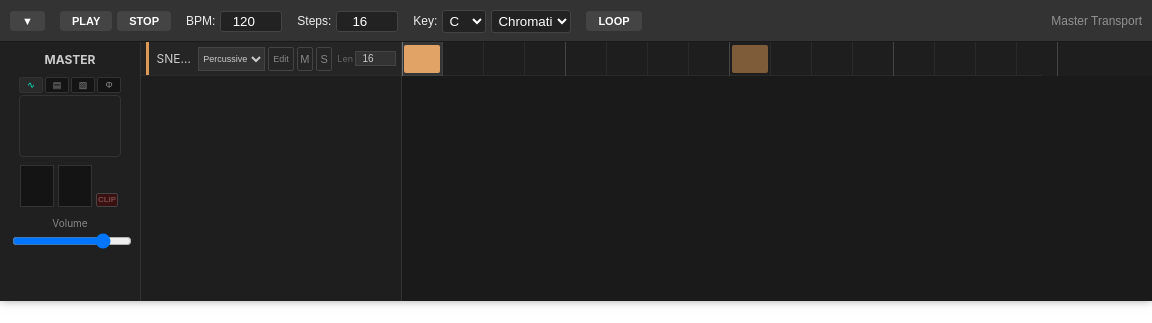
Test: SequencerDock — which editor Edit opens › opens the Drum Roll for a track that resolves percussive
Click the button with test id "track-edit-kick-track".
click(281, 58)  # box [268,46,294,70]
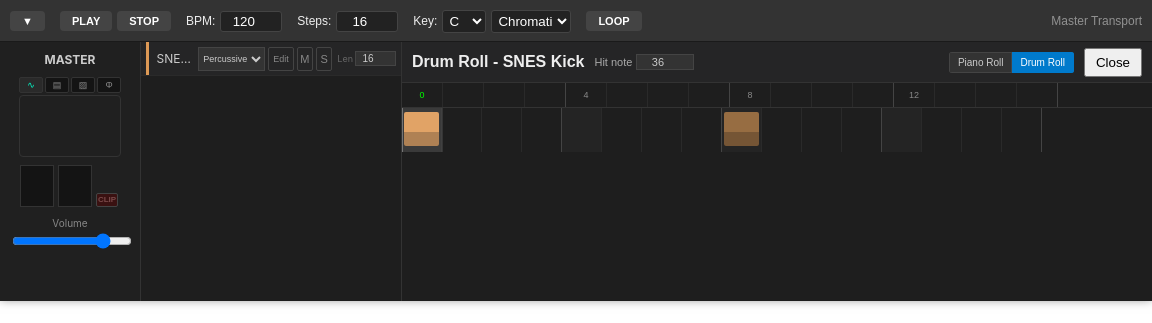
Expected: the element with test id "drum-roll" is shown, [402,42,1151,301]
